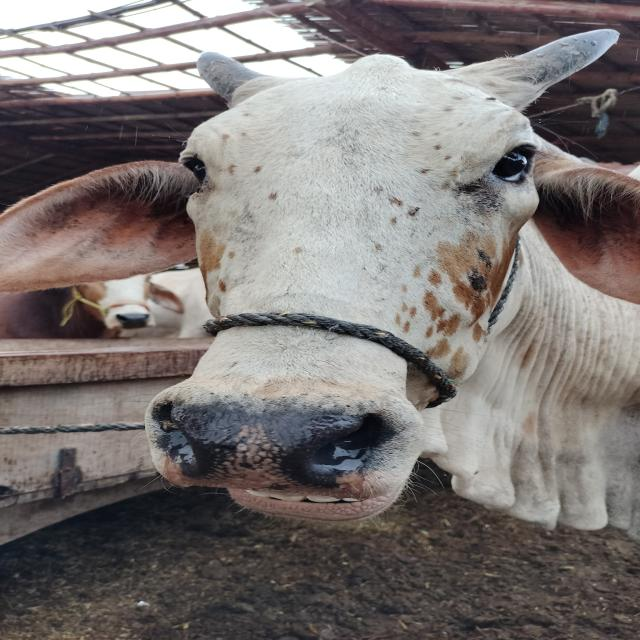muzzles: (142, 386, 400, 502)
